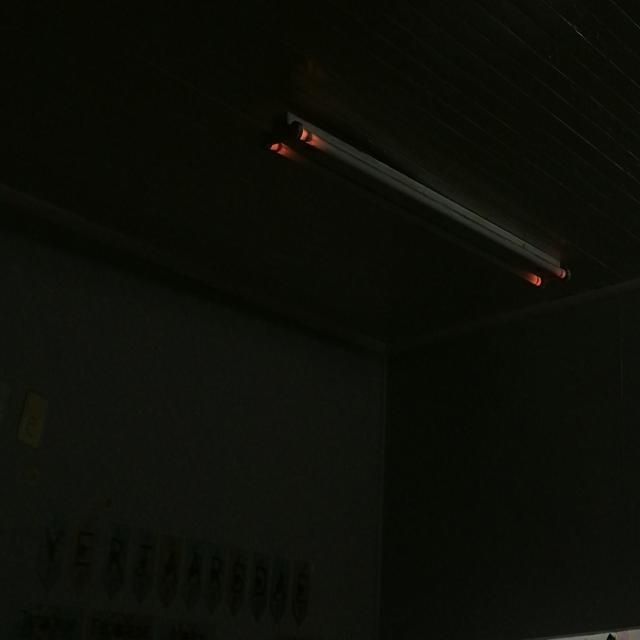fluorescent tube: (268, 87, 595, 330)
